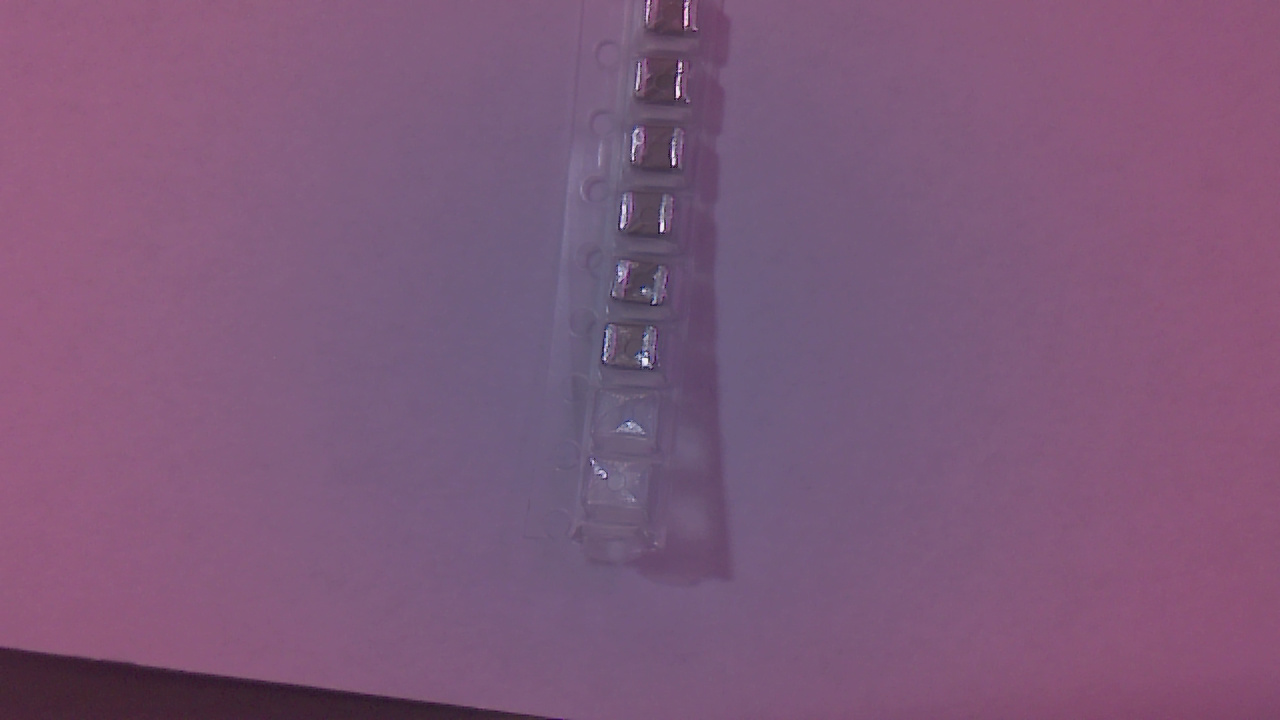Condensator: (602, 325, 665, 377), (623, 195, 682, 242), (638, 127, 693, 176), (640, 60, 698, 105), (616, 268, 673, 312), (647, 6, 702, 36)
